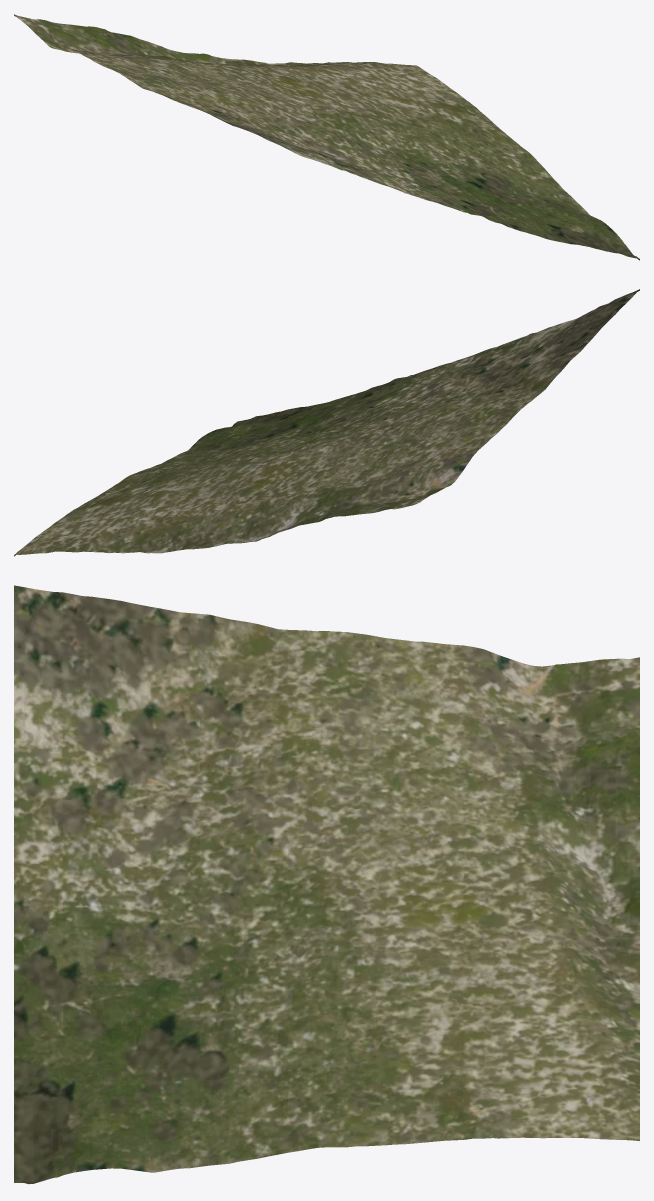
3 views of the same model, one above another, from view 1: azimuth 30°, elevation 25°; view 2: azimuth 150°, elevation 25°; view 3: azimuth 270°, elevation 25° (orthographic). The views are drawn at different scales.
Bounding box in the file's own units: 250 × 138 × 241.
Materials: 1 (1 with a texture image).
